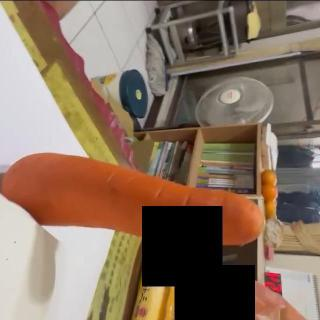carrot: (1, 151, 265, 249)
